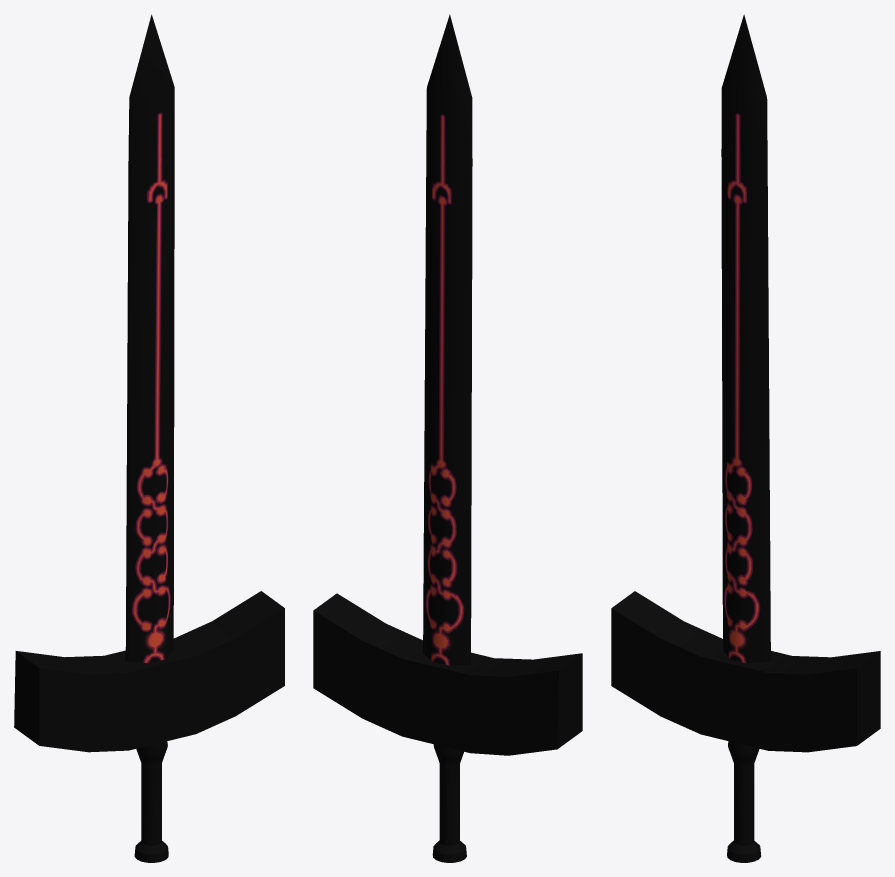
Rendered from Alter.fbx.
The picture shows the model from 3 angles, left to right: view 1: azimuth 30°, elevation 25°; view 2: azimuth 150°, elevation 25°; view 3: azimuth 330°, elevation 25°; orthographic projection.
Visible parts, largest first — view 1: pCylinder3; view 2: pCylinder3; view 3: pCylinder3.
Part boxes in pixels (bbox=[...]): pCylinder3: bbox=[14, 14, 284, 862]; pCylinder3: bbox=[313, 14, 582, 862]; pCylinder3: bbox=[611, 14, 880, 862].
Bounding box in the file's own units: 3.3 × 10.81 × 0.5846.
Materials: 1 (1 with a texture image).
